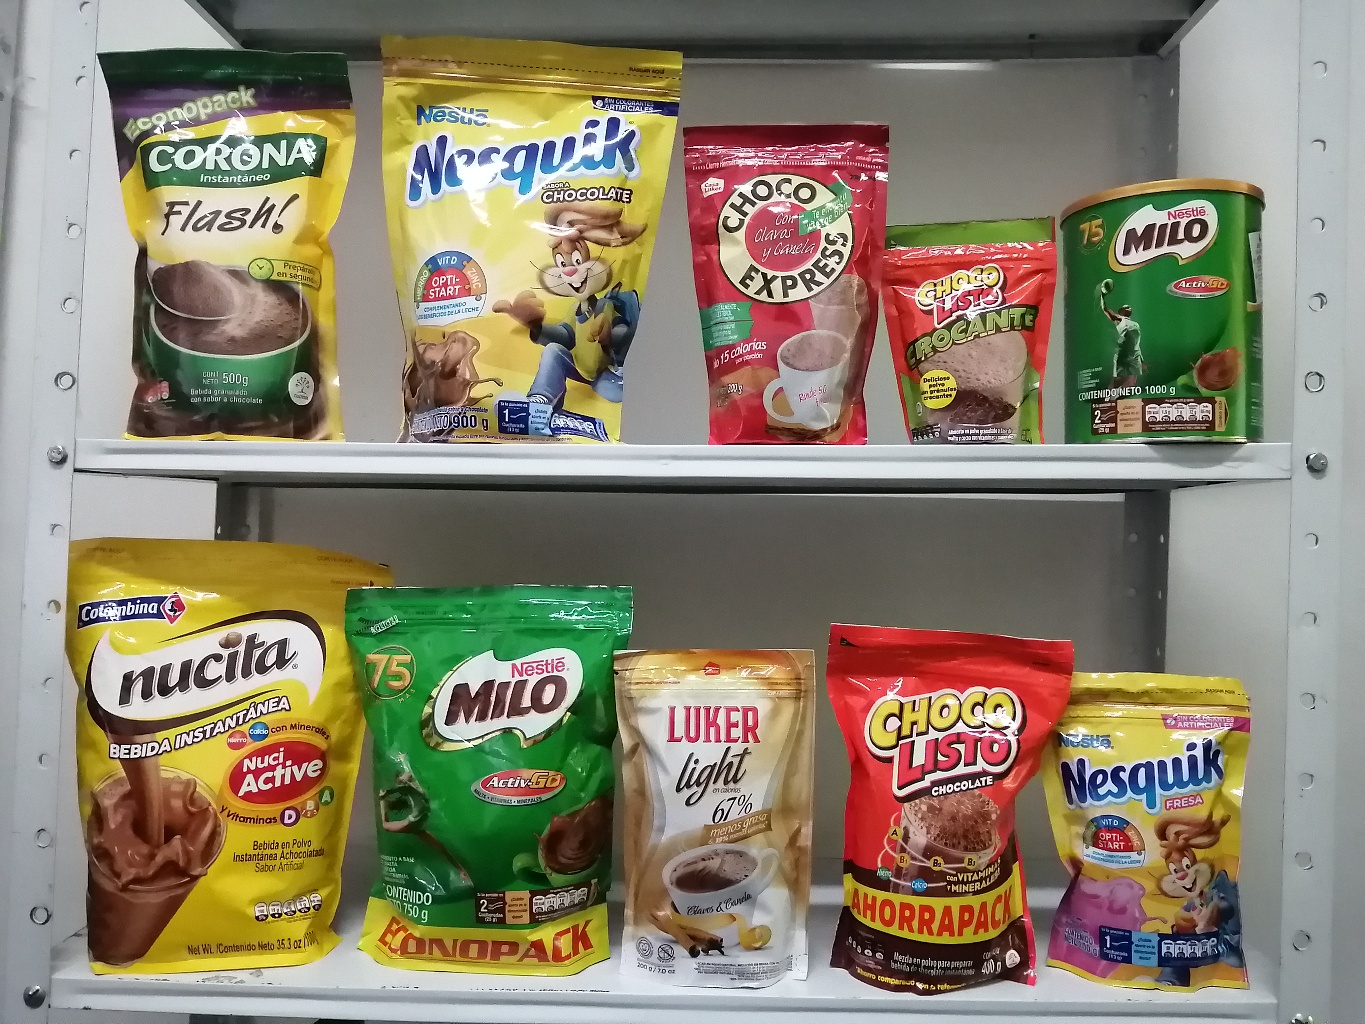COL0170102DYP10000: (875, 207, 1068, 435)
COL0170103DYP40000: (815, 613, 1068, 985)
COL0170305DYP20000: (1053, 666, 1272, 990)
